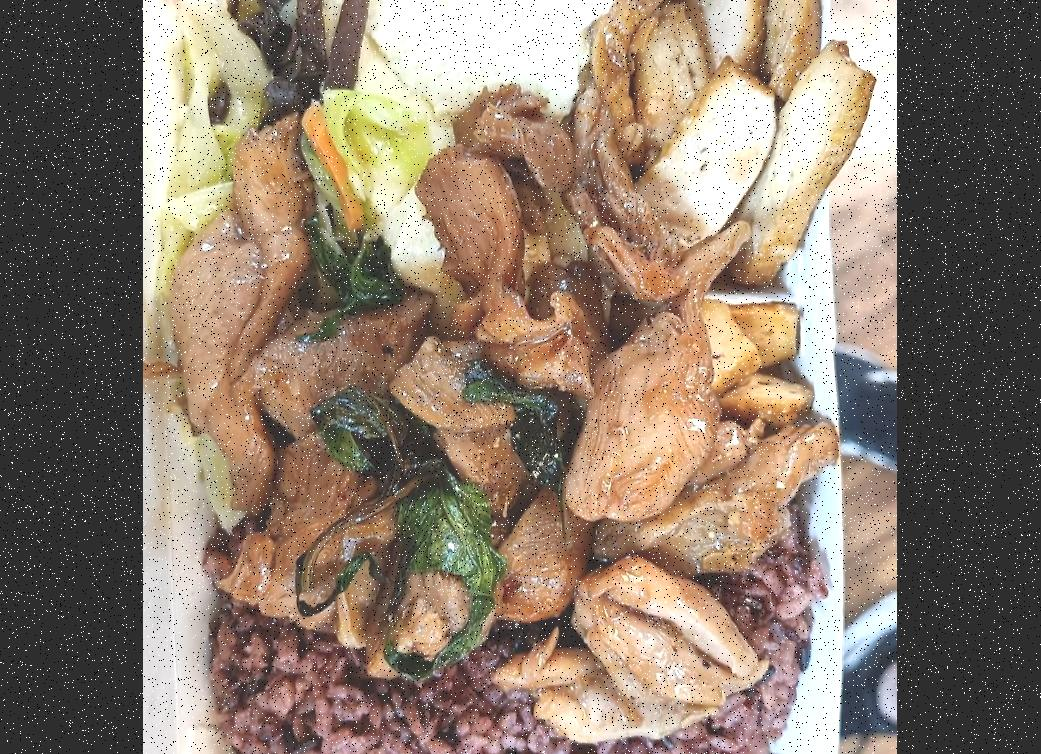big grilled chicken leg: (165, 0, 856, 754)
braised fish: (193, 488, 813, 754)
braised fish fillet: (584, 0, 859, 270), (339, 0, 583, 236), (174, 0, 366, 224)
braised pork: (180, 120, 817, 736)
